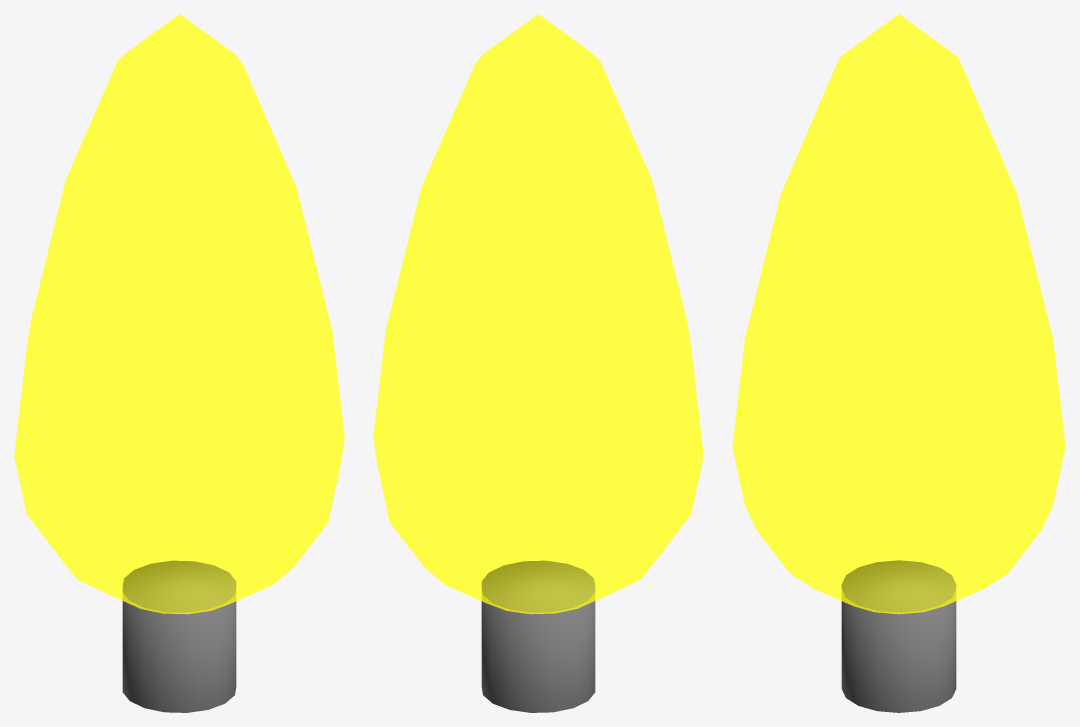
The model's file is BOMBILLA.fbx.
3 views of the same model, side by side, from view 1: azimuth 30°, elevation 25°; view 2: azimuth 150°, elevation 25°; view 3: azimuth 270°, elevation 25° (orthographic).
Visible parts, largest first — view 1: BOMBILLA, CONECTOR; view 2: BOMBILLA, CONECTOR; view 3: BOMBILLA, CONECTOR.
Boxes of the visible parts, x1,y1,x2,y2 form: BOMBILLA: (14,14,344,614); CONECTOR: (122,560,236,712); BOMBILLA: (373,14,703,614); CONECTOR: (481,560,595,712); BOMBILLA: (732,14,1065,614); CONECTOR: (841,560,956,712).
Bounding box in the file's own units: 2.9 × 6.48 × 2.9.
